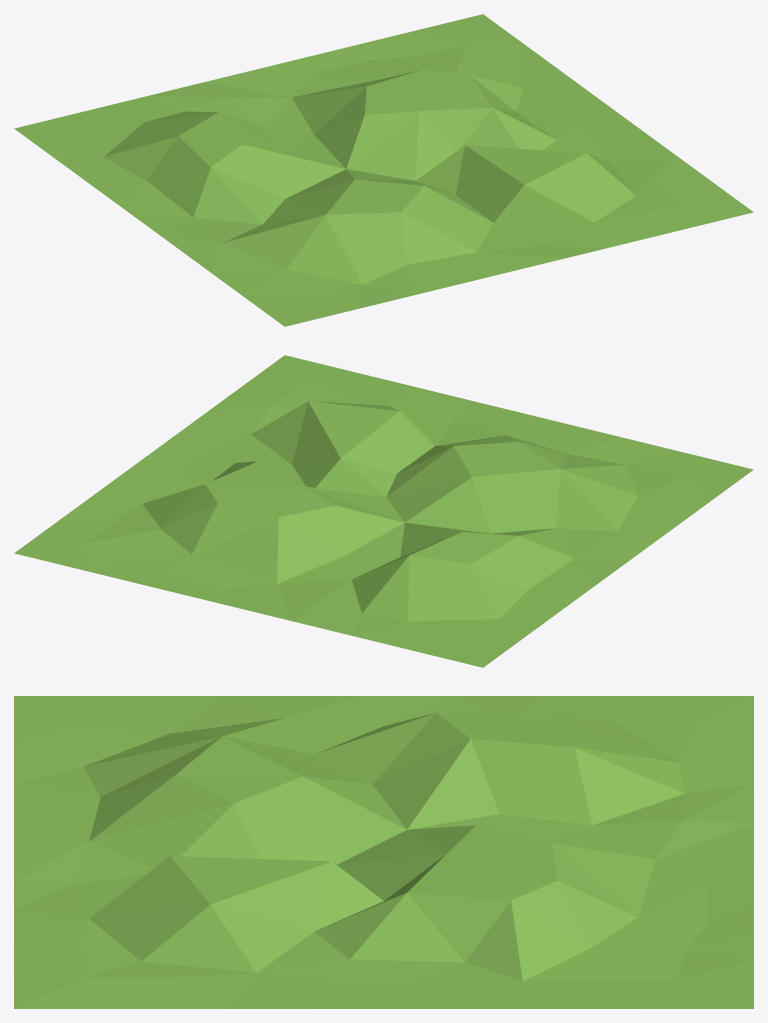
Rendered from MT_Terrain_S_c_22.fbx.
The picture shows the model from 3 angles, top to bottom: view 1: azimuth 30°, elevation 25°; view 2: azimuth 150°, elevation 25°; view 3: azimuth 270°, elevation 25°; orthographic projection. The views are drawn at different scales.
Parts seen in each view (by area): view 1: MT_Terrain_S_c_22; view 2: MT_Terrain_S_c_22; view 3: MT_Terrain_S_c_22.
Boxes of the visible parts, box(x1,y1,x2,y2) form: MT_Terrain_S_c_22: box(14, 14, 753, 326); MT_Terrain_S_c_22: box(14, 355, 753, 667); MT_Terrain_S_c_22: box(14, 696, 753, 1008).
Size of the model in its own units: 2500 by 164 by 2500.
